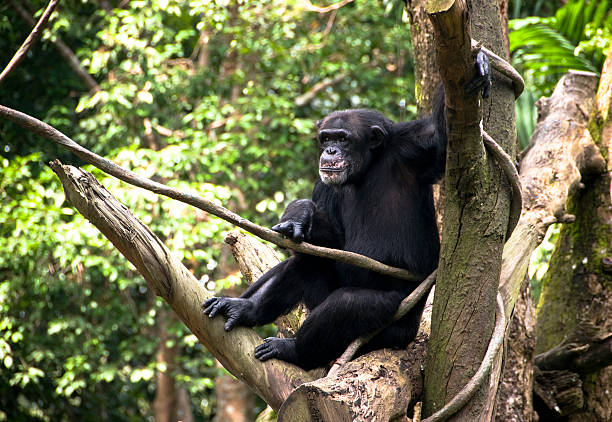chimpanzee: (286, 100, 393, 192)
